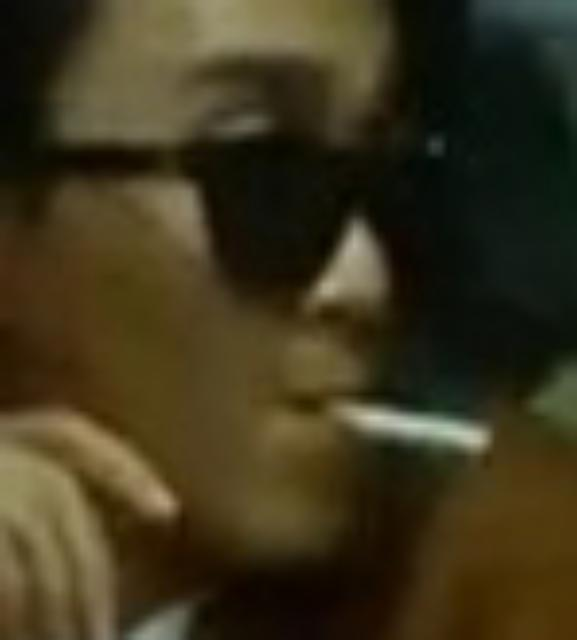Smoking: (297, 388, 497, 458)
